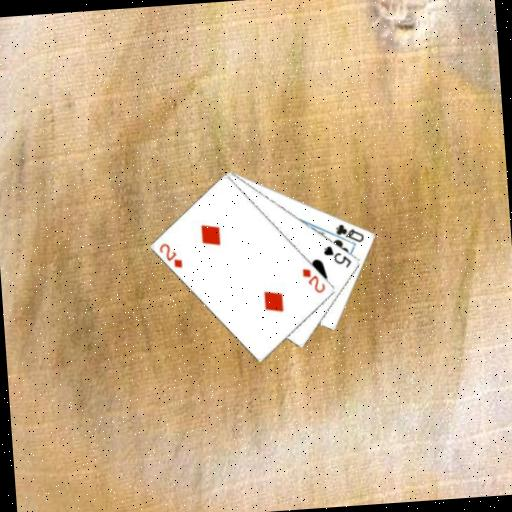2D: (299, 264, 328, 296), (156, 239, 185, 271)
5S: (320, 241, 354, 271)
QC: (332, 220, 366, 246)
